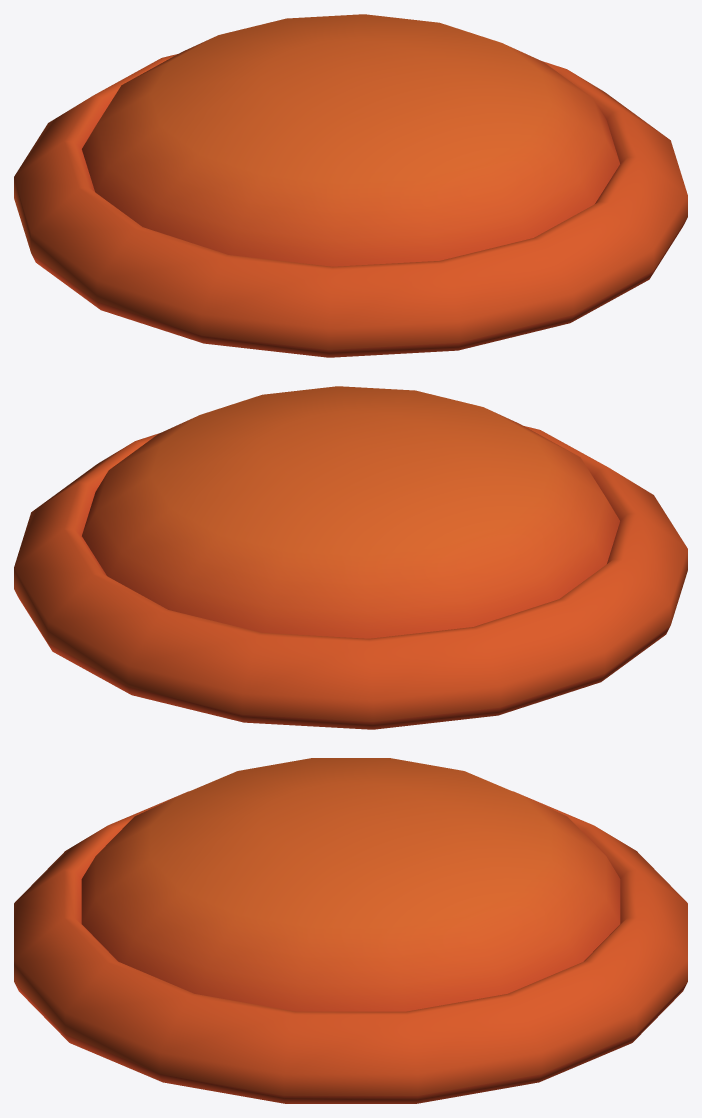
The model's file is KFB_Loot_frisbee.r1.glb.
The picture shows the model from 3 angles, top to bottom: view 1: azimuth 30°, elevation 25°; view 2: azimuth 150°, elevation 25°; view 3: azimuth 270°, elevation 25°; orthographic projection.
Visible parts, largest first — view 1: KFB_Loot_frisbee; view 2: KFB_Loot_frisbee; view 3: KFB_Loot_frisbee.
Boxes of the visible parts, left/top/right/bottom form: KFB_Loot_frisbee: left=14, top=14, right=687, bottom=357; KFB_Loot_frisbee: left=14, top=386, right=687, bottom=729; KFB_Loot_frisbee: left=14, top=758, right=687, bottom=1103.
Bounding box in the file's own units: 0.75 × 0.183 × 0.75.
1 material, 1 textured.
